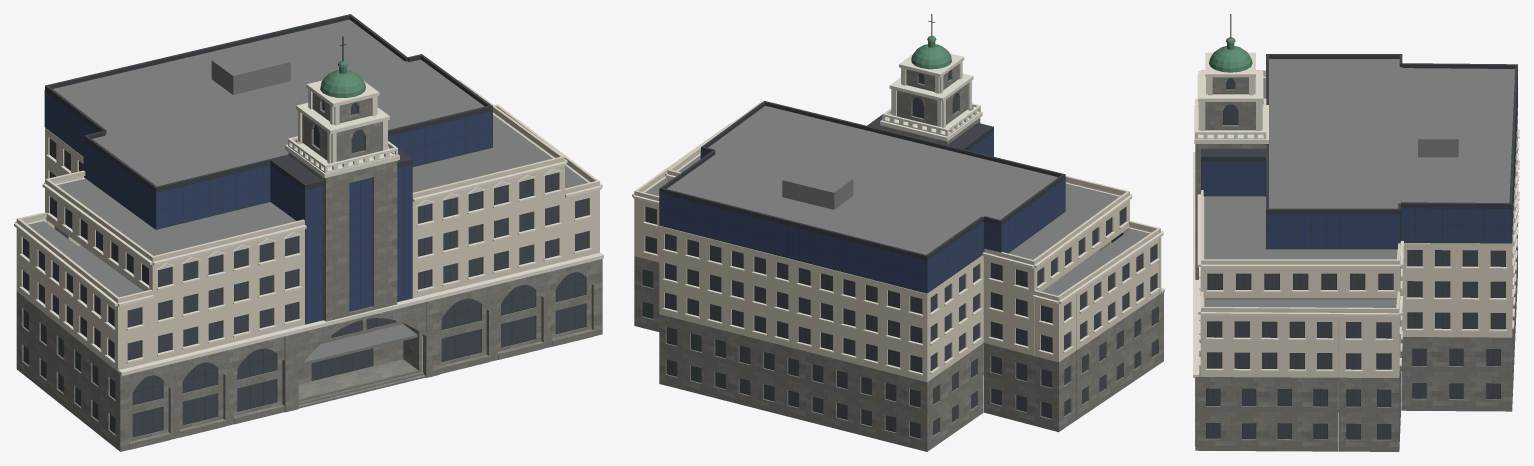
3 views of the same model, side by side, from view 1: azimuth 30°, elevation 25°; view 2: azimuth 150°, elevation 25°; view 3: azimuth 270°, elevation 25° (orthographic). The views are drawn at different scales.
Visible parts, largest first — view 1: main__roof, main__granite, main__cream, main__glass, main__glassBlue, main__frame, main__trim, main__copper; view 2: main__cream, main__roof, main__granite, main__glass, main__glassBlue, main__frame, main__trim, main__copper; view 3: main__roof, main__cream, main__granite, main__glass, main__glassBlue, main__frame, main__trim, main__copper.
Part boxes in pixels (<box>): main__roof: <box>28,19,587,365</box>; main__granite: <box>16,92,602,451</box>; main__cream: <box>16,80,599,371</box>; main__glass: <box>23,100,588,436</box>; main__glassBlue: <box>45,91,492,324</box>; main__frame: <box>23,14,589,437</box>; main__trim: <box>14,80,603,375</box>; main__copper: <box>320,60,365,97</box>; main__cream: <box>634,101,1161,382</box>; main__roof: <box>645,106,1149,374</box>; main__granite: <box>634,64,1163,451</box>; main__glass: <box>643,71,1157,437</box>; main__glassBlue: <box>660,131,1065,293</box>; main__frame: <box>642,14,1157,438</box>; main__trim: <box>632,53,1164,375</box>; main__copper: <box>911,36,951,69</box>; main__roof: <box>1204,59,1514,411</box>; main__cream: <box>1200,70,1517,377</box>; main__granite: <box>1195,77,1517,451</box>; main__glass: <box>1206,78,1505,438</box>; main__glassBlue: <box>1201,73,1517,248</box>; main__frame: <box>1201,14,1518,439</box>; main__trim: <box>1193,52,1519,377</box>; main__copper: <box>1209,37,1252,72</box>.
Size of the model in its own units: 59.19 by 39.6 by 36.07.
8 materials, 1 textured.
